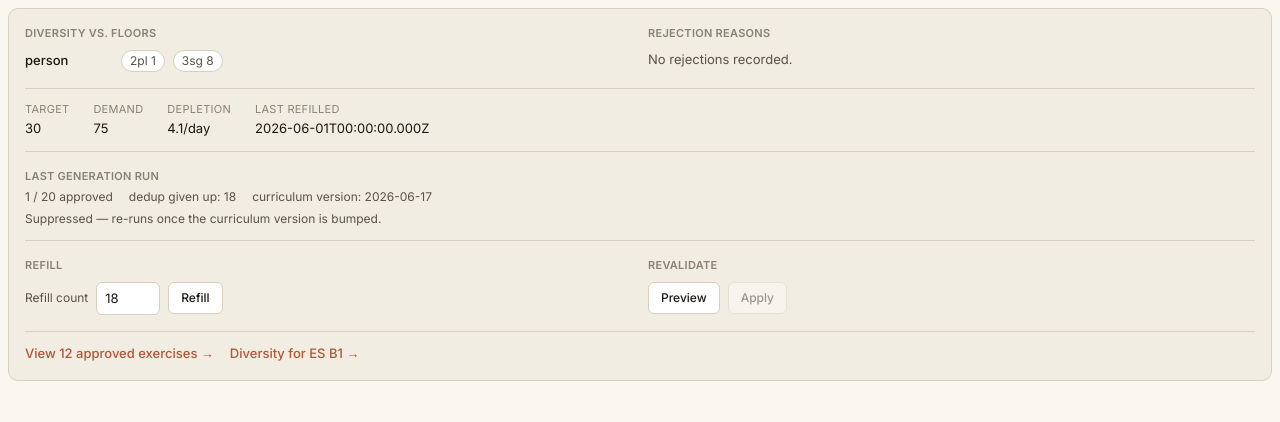
Test case: PoolCellDetail — revalidate › previews (apply:false) and renders the dry-run summary
Click the button "Preview".
click(684, 298)  # box x1=648 y1=282 x2=720 y2=314
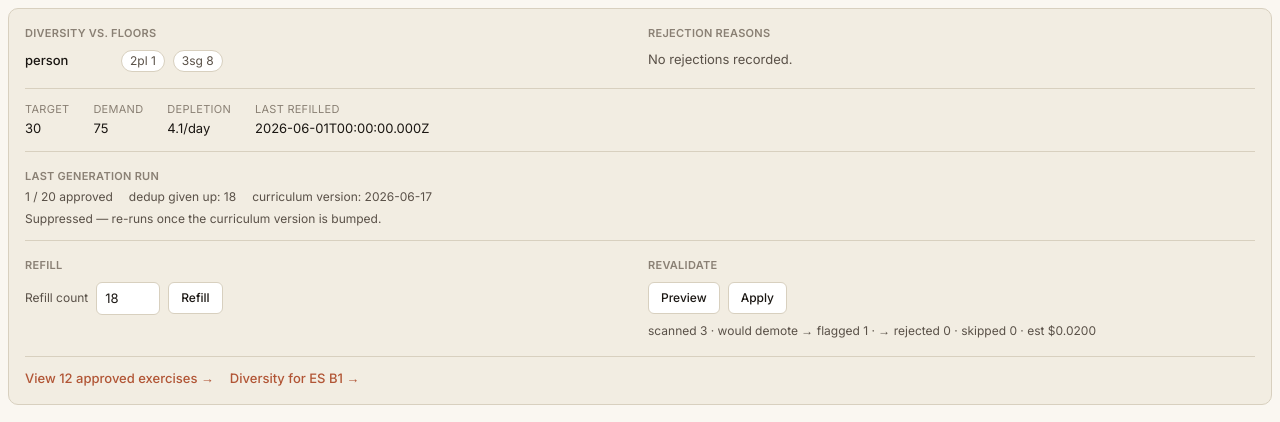
Now the text "would demote" shows "scanned 3", box x1=648 y1=322 x2=1096 y2=338
Now the text "would demote" shows "flagged 1", box x1=648 y1=322 x2=1096 y2=338
Now the text "would demote" shows "0.02", box x1=1056 y1=322 x2=1096 y2=338
